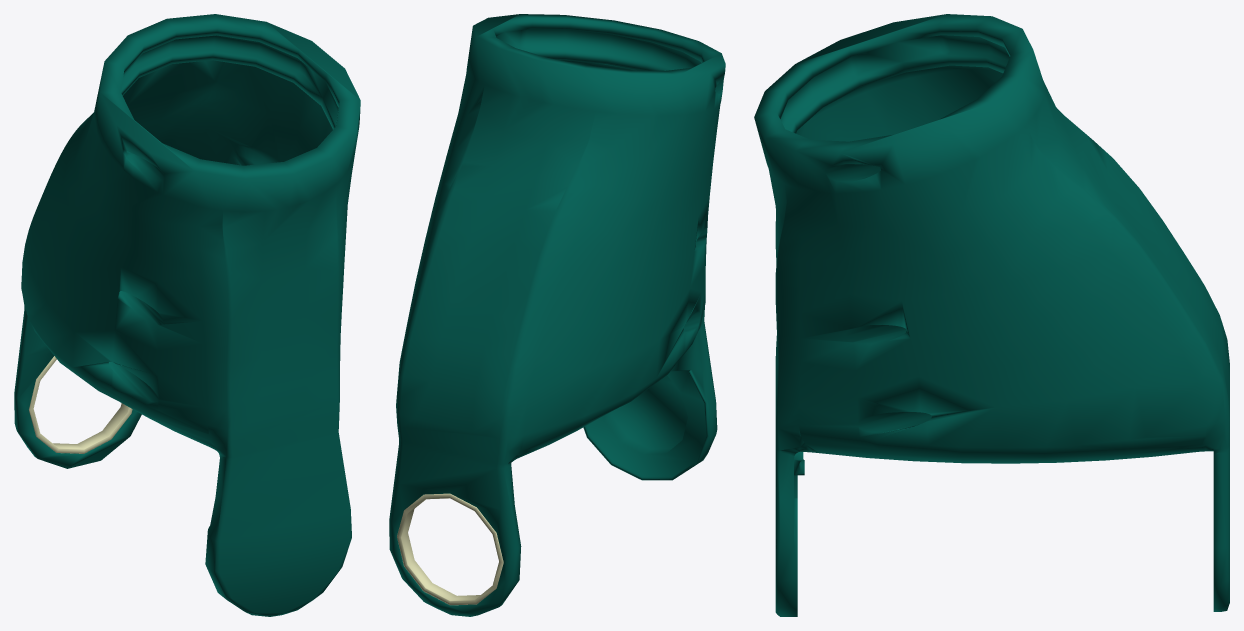
The model's file is 2h09020_arml_t12.obj.
The picture shows the model from 3 angles, left to right: view 1: azimuth 30°, elevation 25°; view 2: azimuth 150°, elevation 25°; view 3: azimuth 270°, elevation 25°; orthographic projection. The views are drawn at different scales.
Bounding box in the file's own units: 0.125 × 0.2669 × 0.2058.
